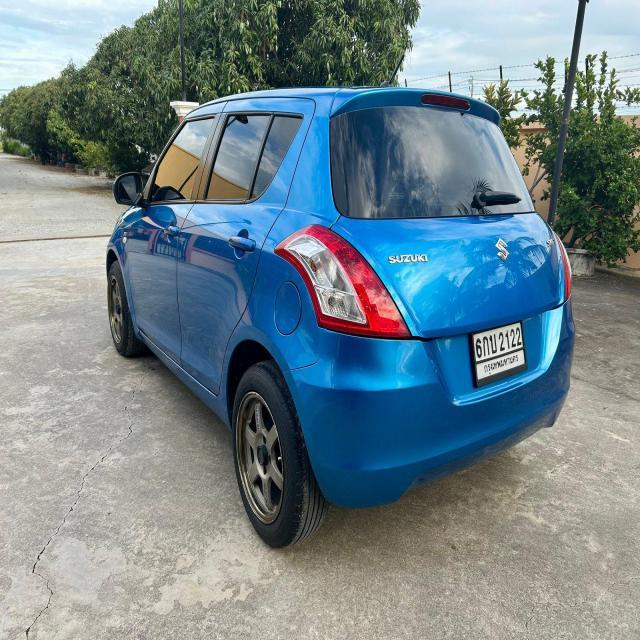Hatchback: (106, 86, 575, 547)
